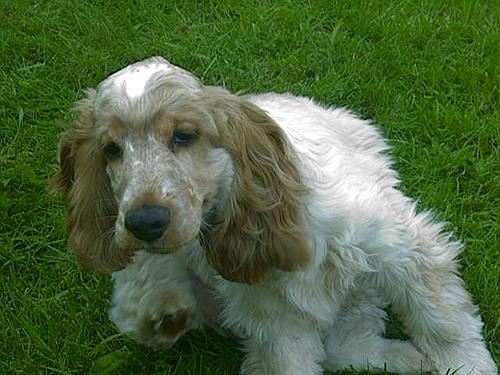dog-english_cocker_spaniel: (58, 55, 300, 281)
